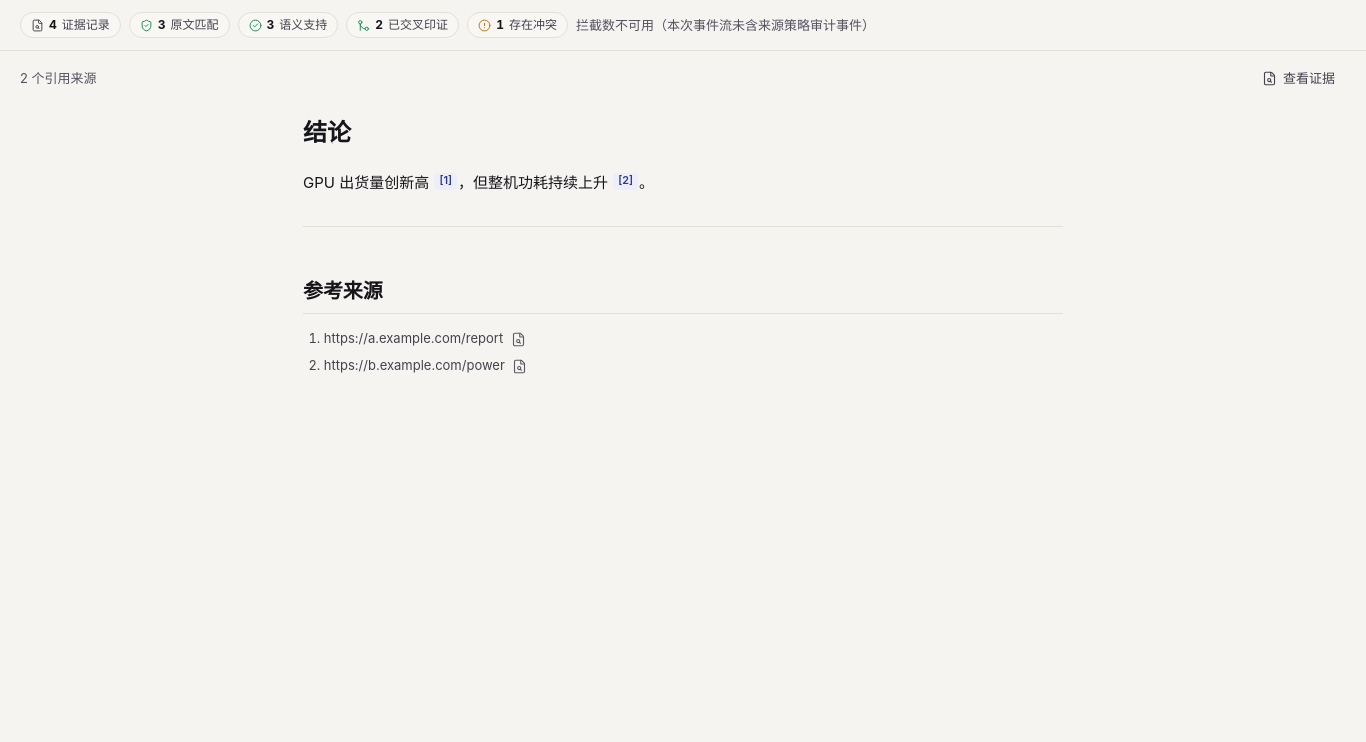
ReportView 可审计证据链 › conflicted 论断在侧栏中渲染矛盾徽章与反向 claim 链接
Click the button named "查看引用 2 的证据" at point(626, 181), box 613,173 -> 638,190
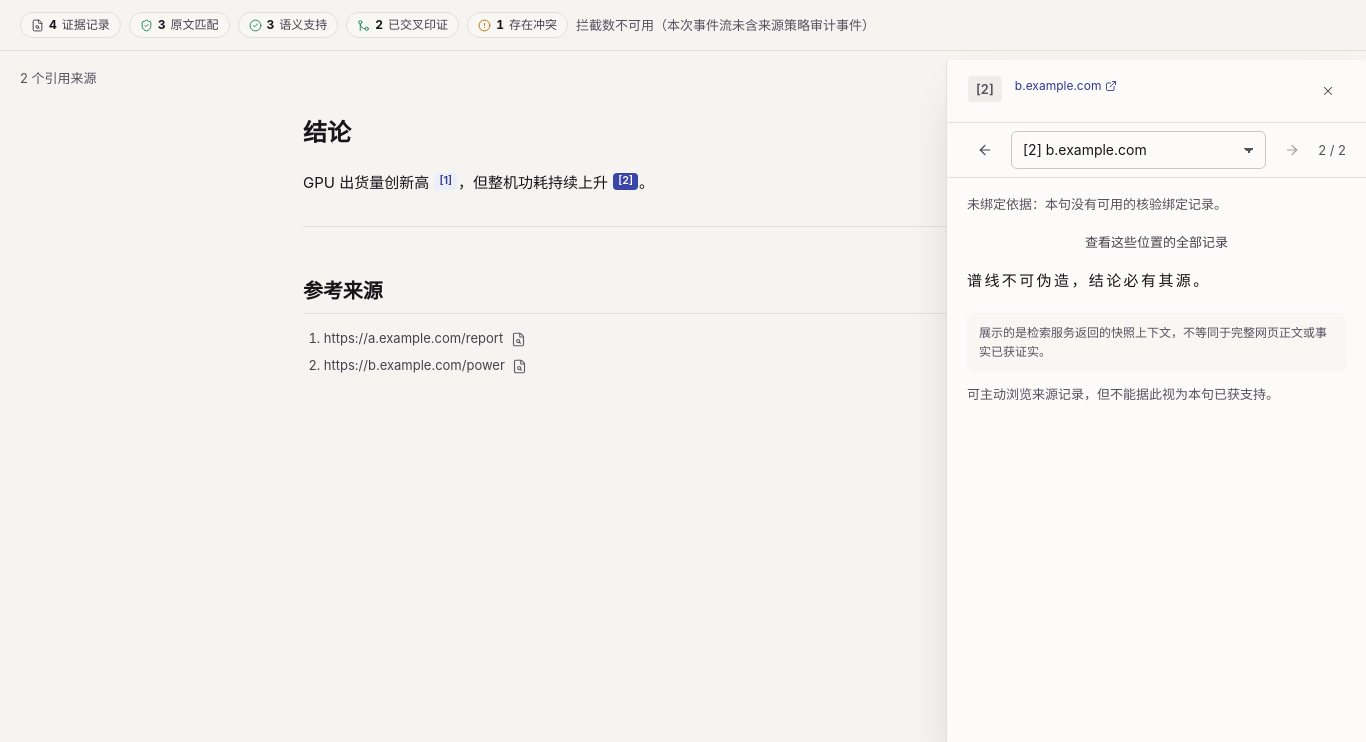
Click the button "查看这些位置的全部记录" at point(1156, 242), box 967,227 -> 1346,257
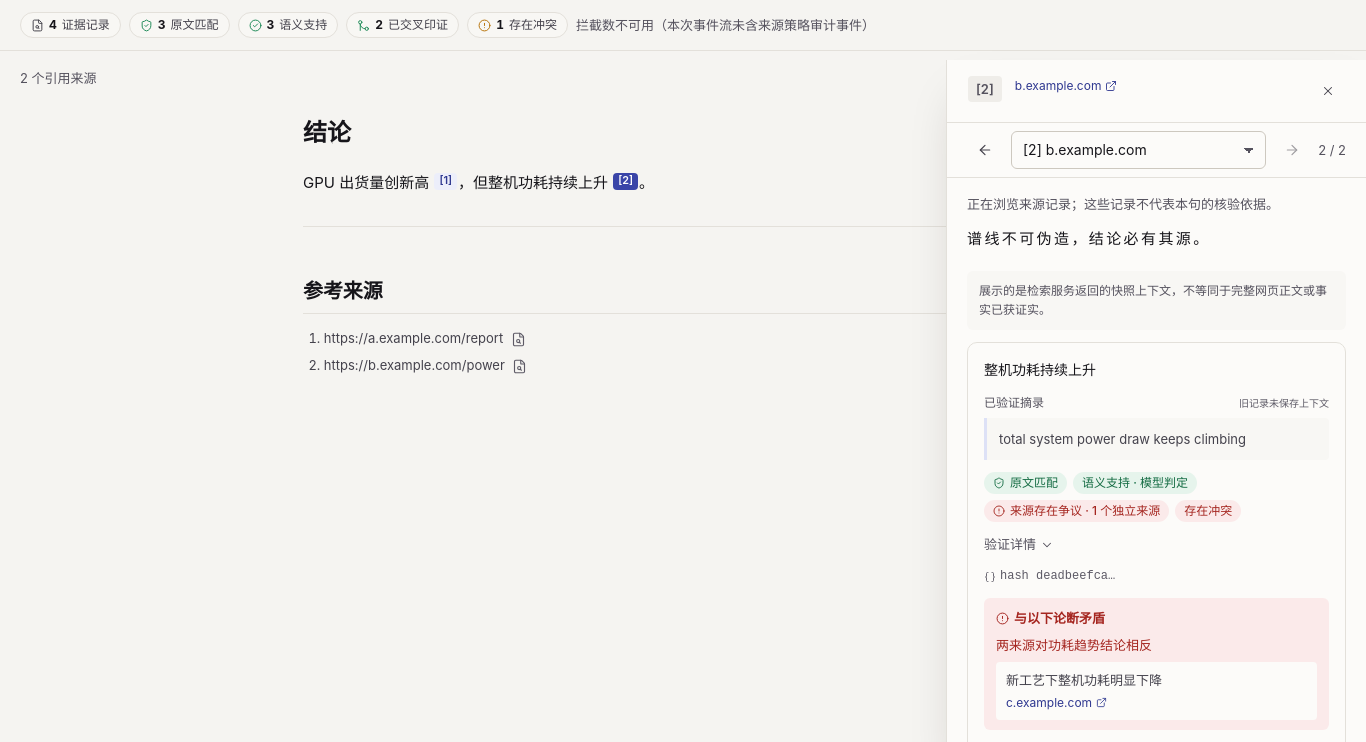
Check: the text "来源存在争议 · 1 个独立来源" is shown, box 984,500 -> 1169,522
Check: the text "两来源对功耗趋势结论相反" is shown, box 996,637 -> 1152,653
Check: the text "新工艺下整机功耗明显下降" is shown, box 1006,672 -> 1162,688
